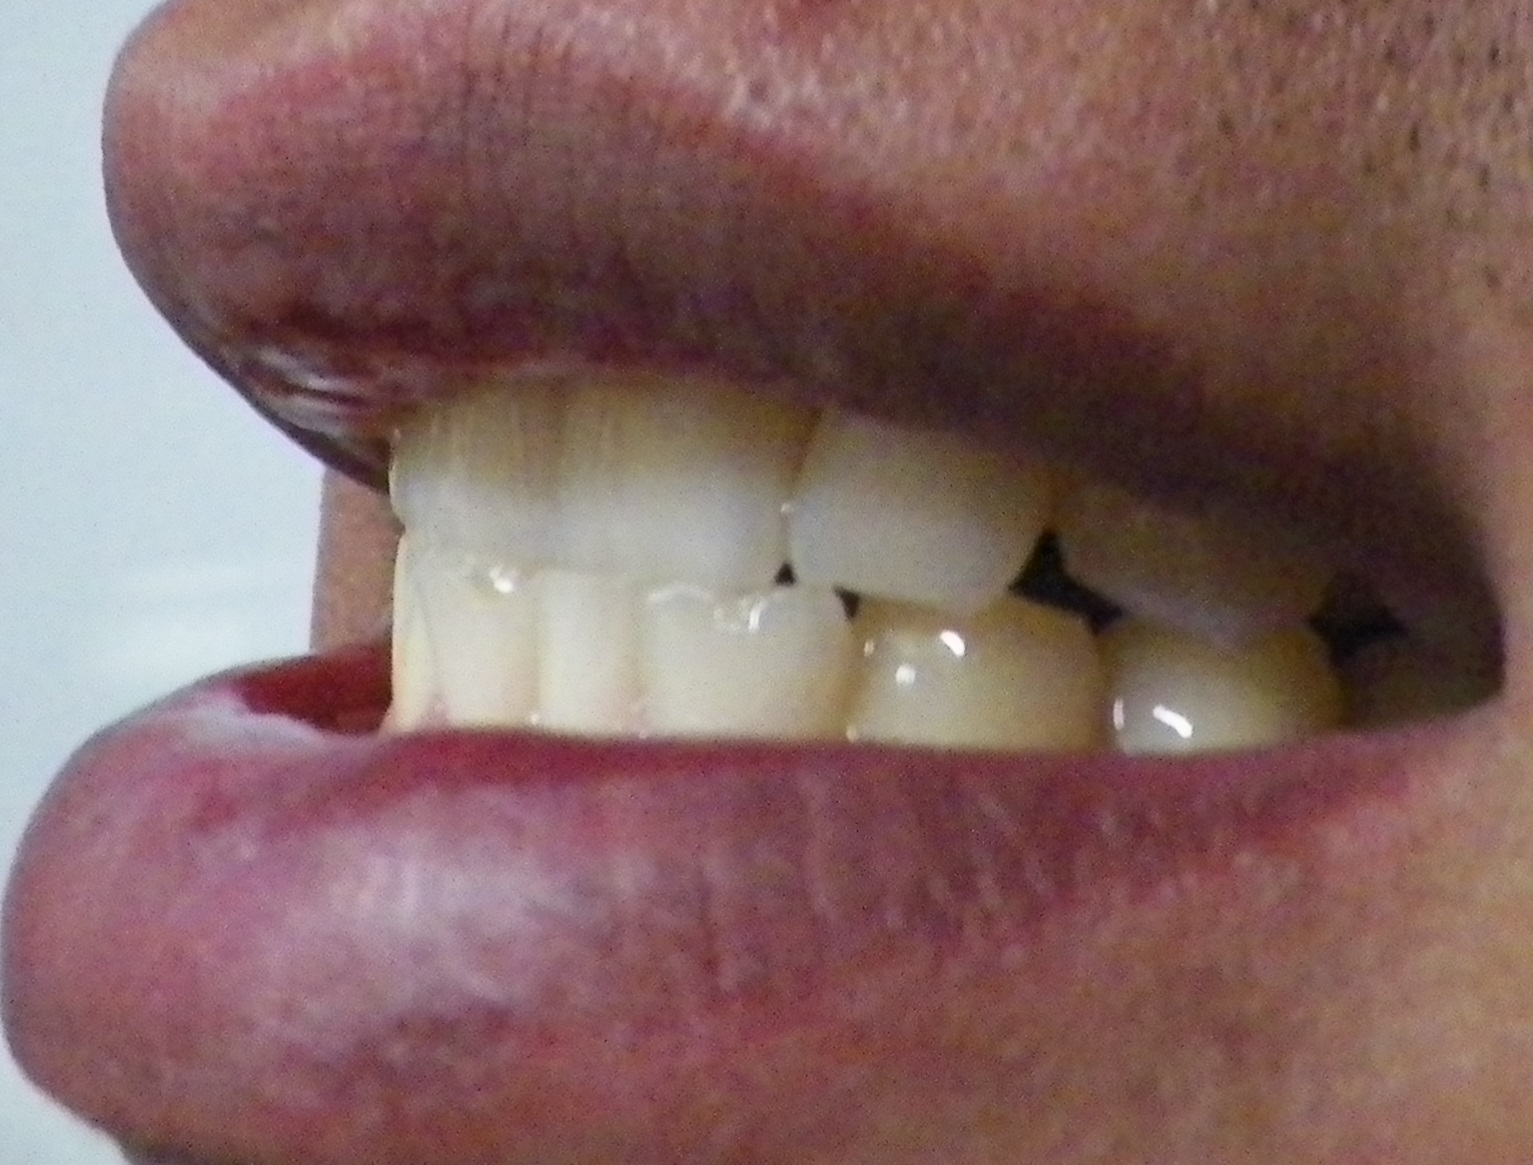boca: (377, 390, 1364, 757)
